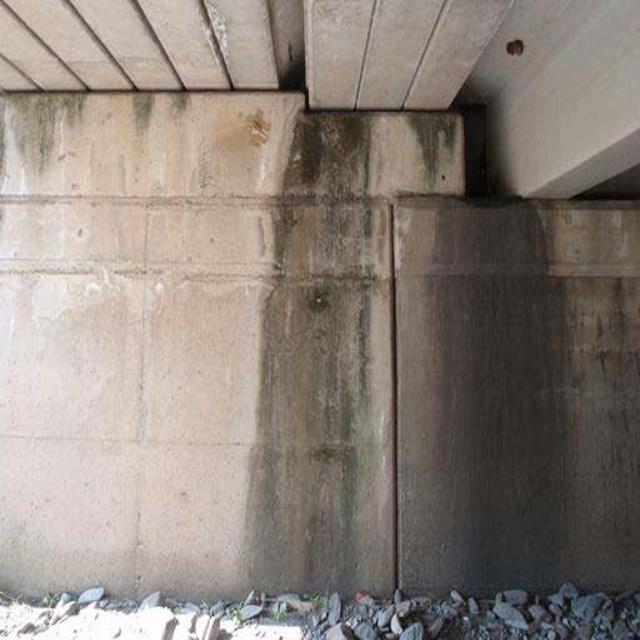leakage: (277, 105, 584, 604)
